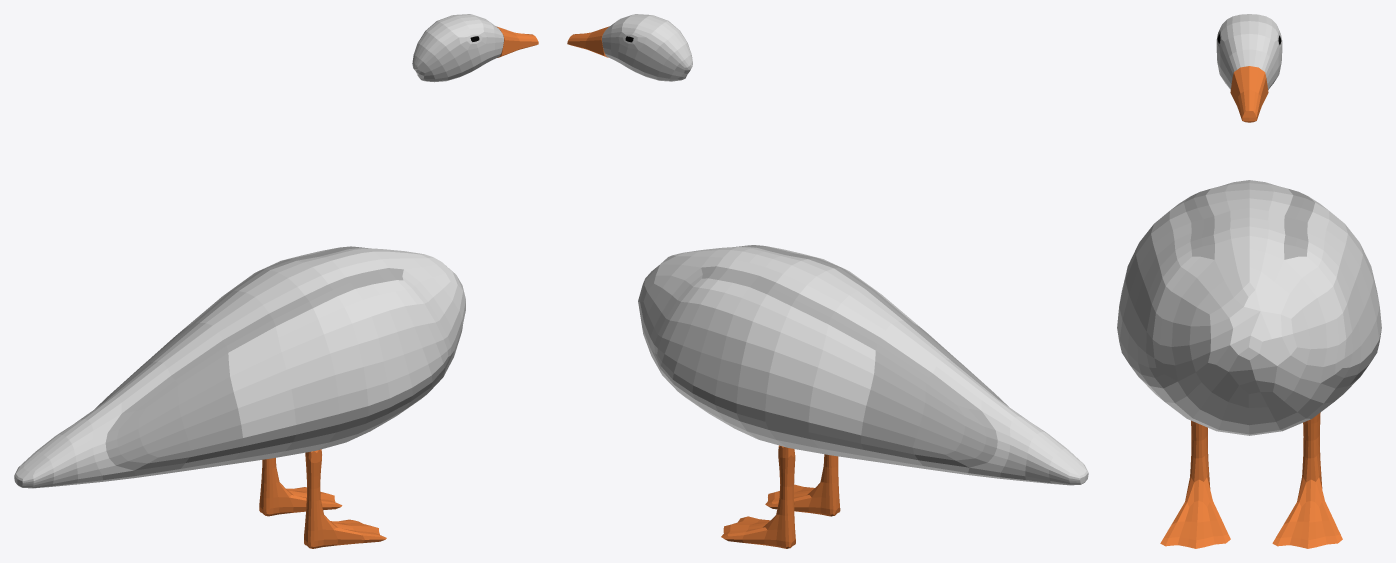
File: Goose.fbx
3 renders of one model, left to right at view 1: azimuth 30°, elevation 25°; view 2: azimuth 150°, elevation 25°; view 3: azimuth 270°, elevation 25°, orthographic. The views are drawn at different scales.
Visible parts, largest first — view 1: body, head, leg.R, legL, mouthUp; view 2: body, head, legL, leg.R, mouthUp; view 3: body, legL, leg.R, head, mouthUp.
Part boxes in pixels (x1,y1,x2,y2): body: (14, 246, 465, 488); head: (412, 14, 503, 82); leg.R: (304, 449, 386, 548); legL: (259, 458, 342, 516); mouthUp: (496, 26, 538, 55); body: (638, 245, 1088, 485); head: (602, 14, 692, 81); legL: (721, 445, 795, 548); leg.R: (765, 454, 840, 516); mouthUp: (567, 26, 609, 55); body: (1117, 180, 1381, 435); legL: (1272, 412, 1342, 548); leg.R: (1160, 420, 1230, 548); head: (1216, 14, 1282, 89); mouthUp: (1230, 66, 1268, 121).
Size of the model in its own units: 4.7 by 4.09 by 1.65.
